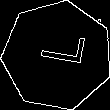L_W: (29, 36, 85, 75)
